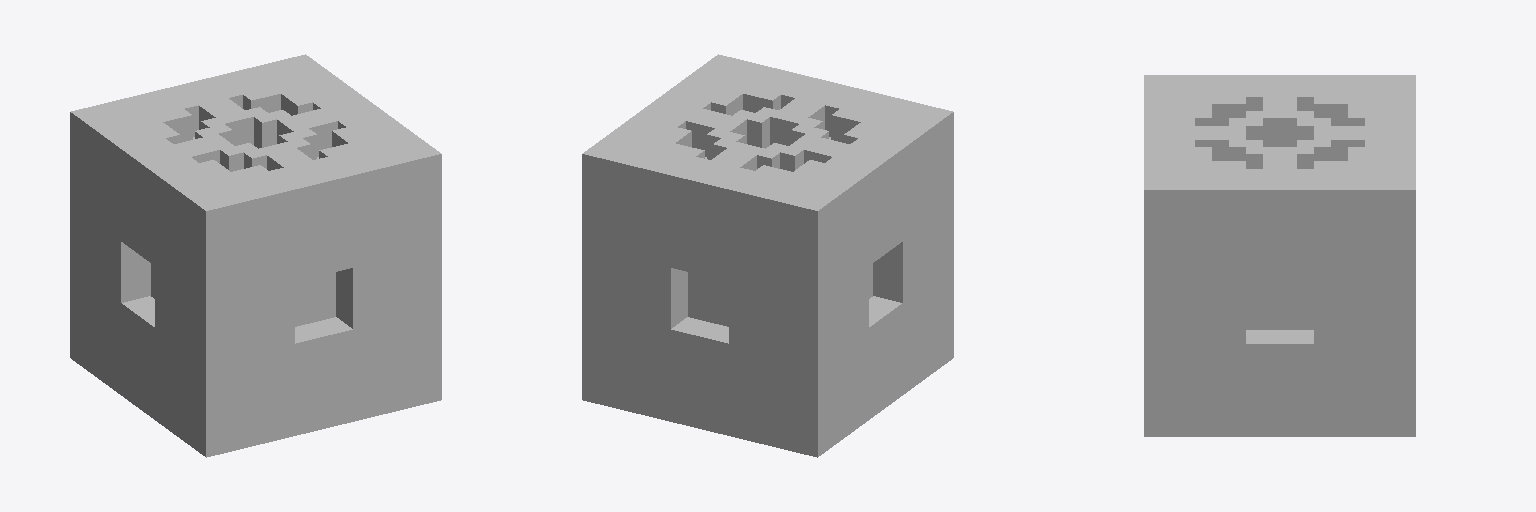
The model's file is MagicianTable.obj.
3 renders of one model, left to right at view 1: azimuth 30°, elevation 25°; view 2: azimuth 150°, elevation 25°; view 3: azimuth 270°, elevation 25°, orthographic.
Parts seen in each view (by area): view 1: pCube1; view 2: pCube1; view 3: pCube1.
Part boxes in pixels (bbox=[...]): pCube1: bbox=[70, 54, 441, 457]; pCube1: bbox=[582, 54, 953, 457]; pCube1: bbox=[1144, 75, 1415, 436].
Size of the model in its own units: 1 by 1 by 1.